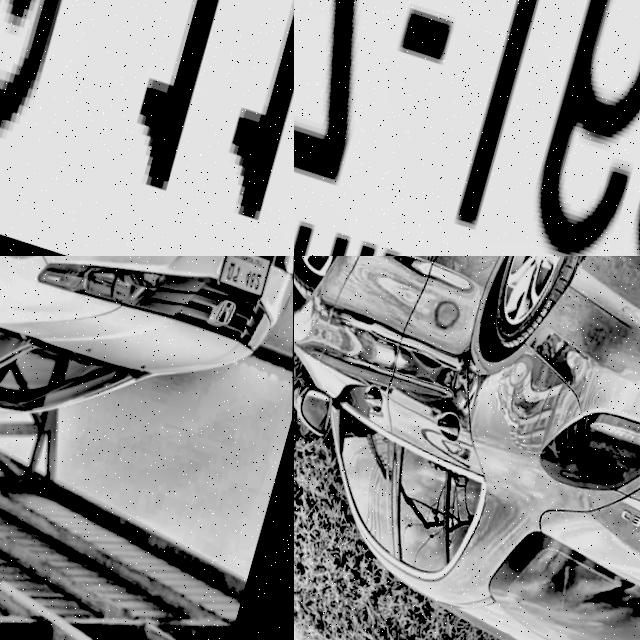license-plate: (294, 0, 640, 256), (0, 0, 294, 256), (206, 256, 277, 300)
